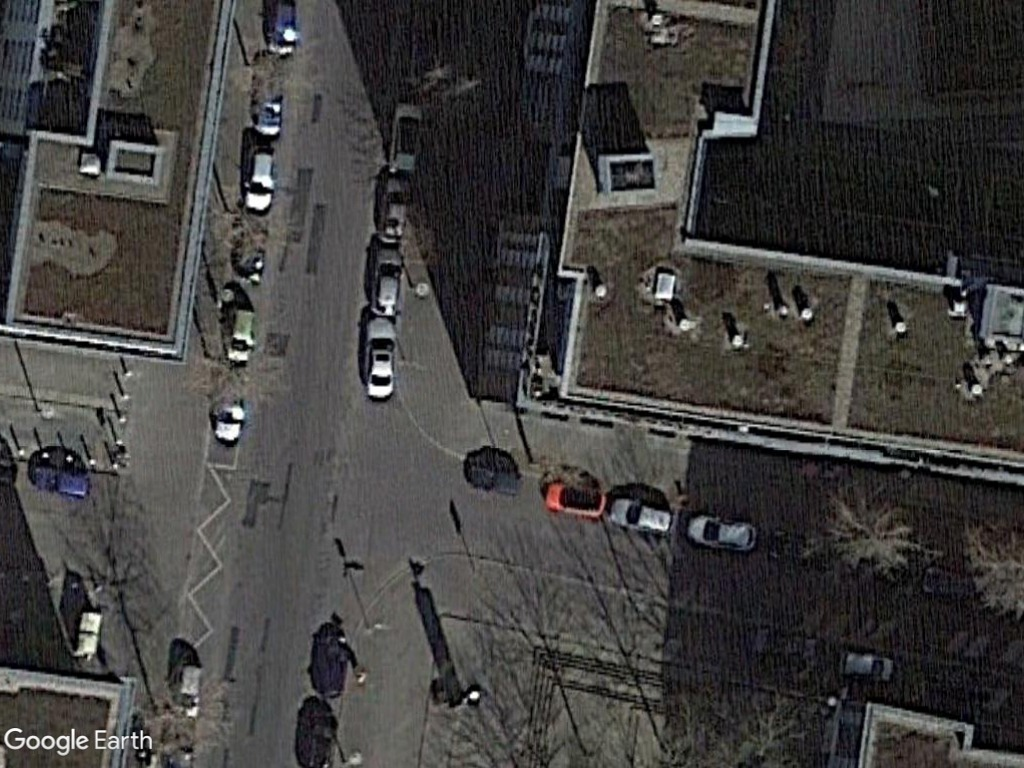car: (683, 510, 765, 556), (360, 314, 401, 404), (381, 101, 429, 176), (238, 141, 283, 218), (366, 240, 408, 316), (607, 491, 672, 537), (539, 477, 608, 520), (30, 463, 97, 504), (834, 646, 902, 686), (223, 304, 260, 369)
